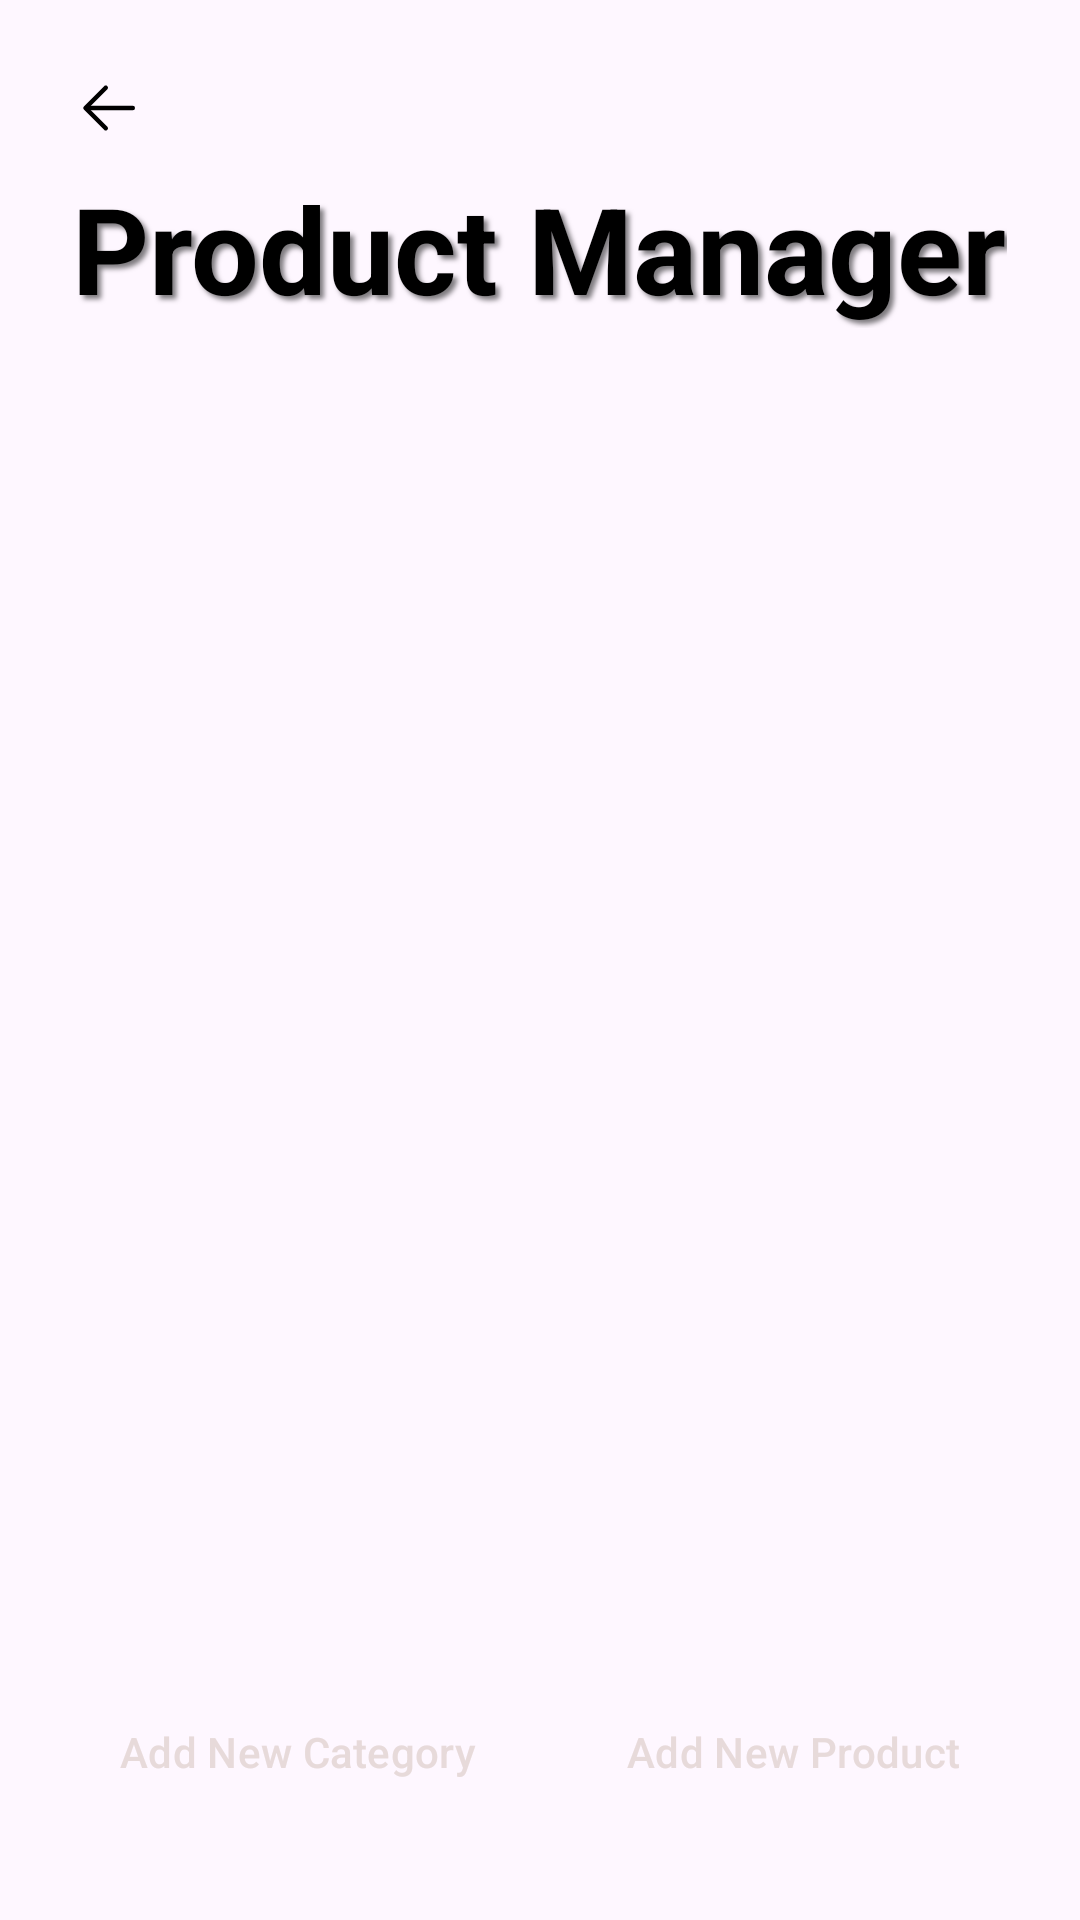

Screen size 1080x1920. Icon name, then its box in pixels as (x1, y1, x2, y2):
Back: (83, 85, 135, 131)
